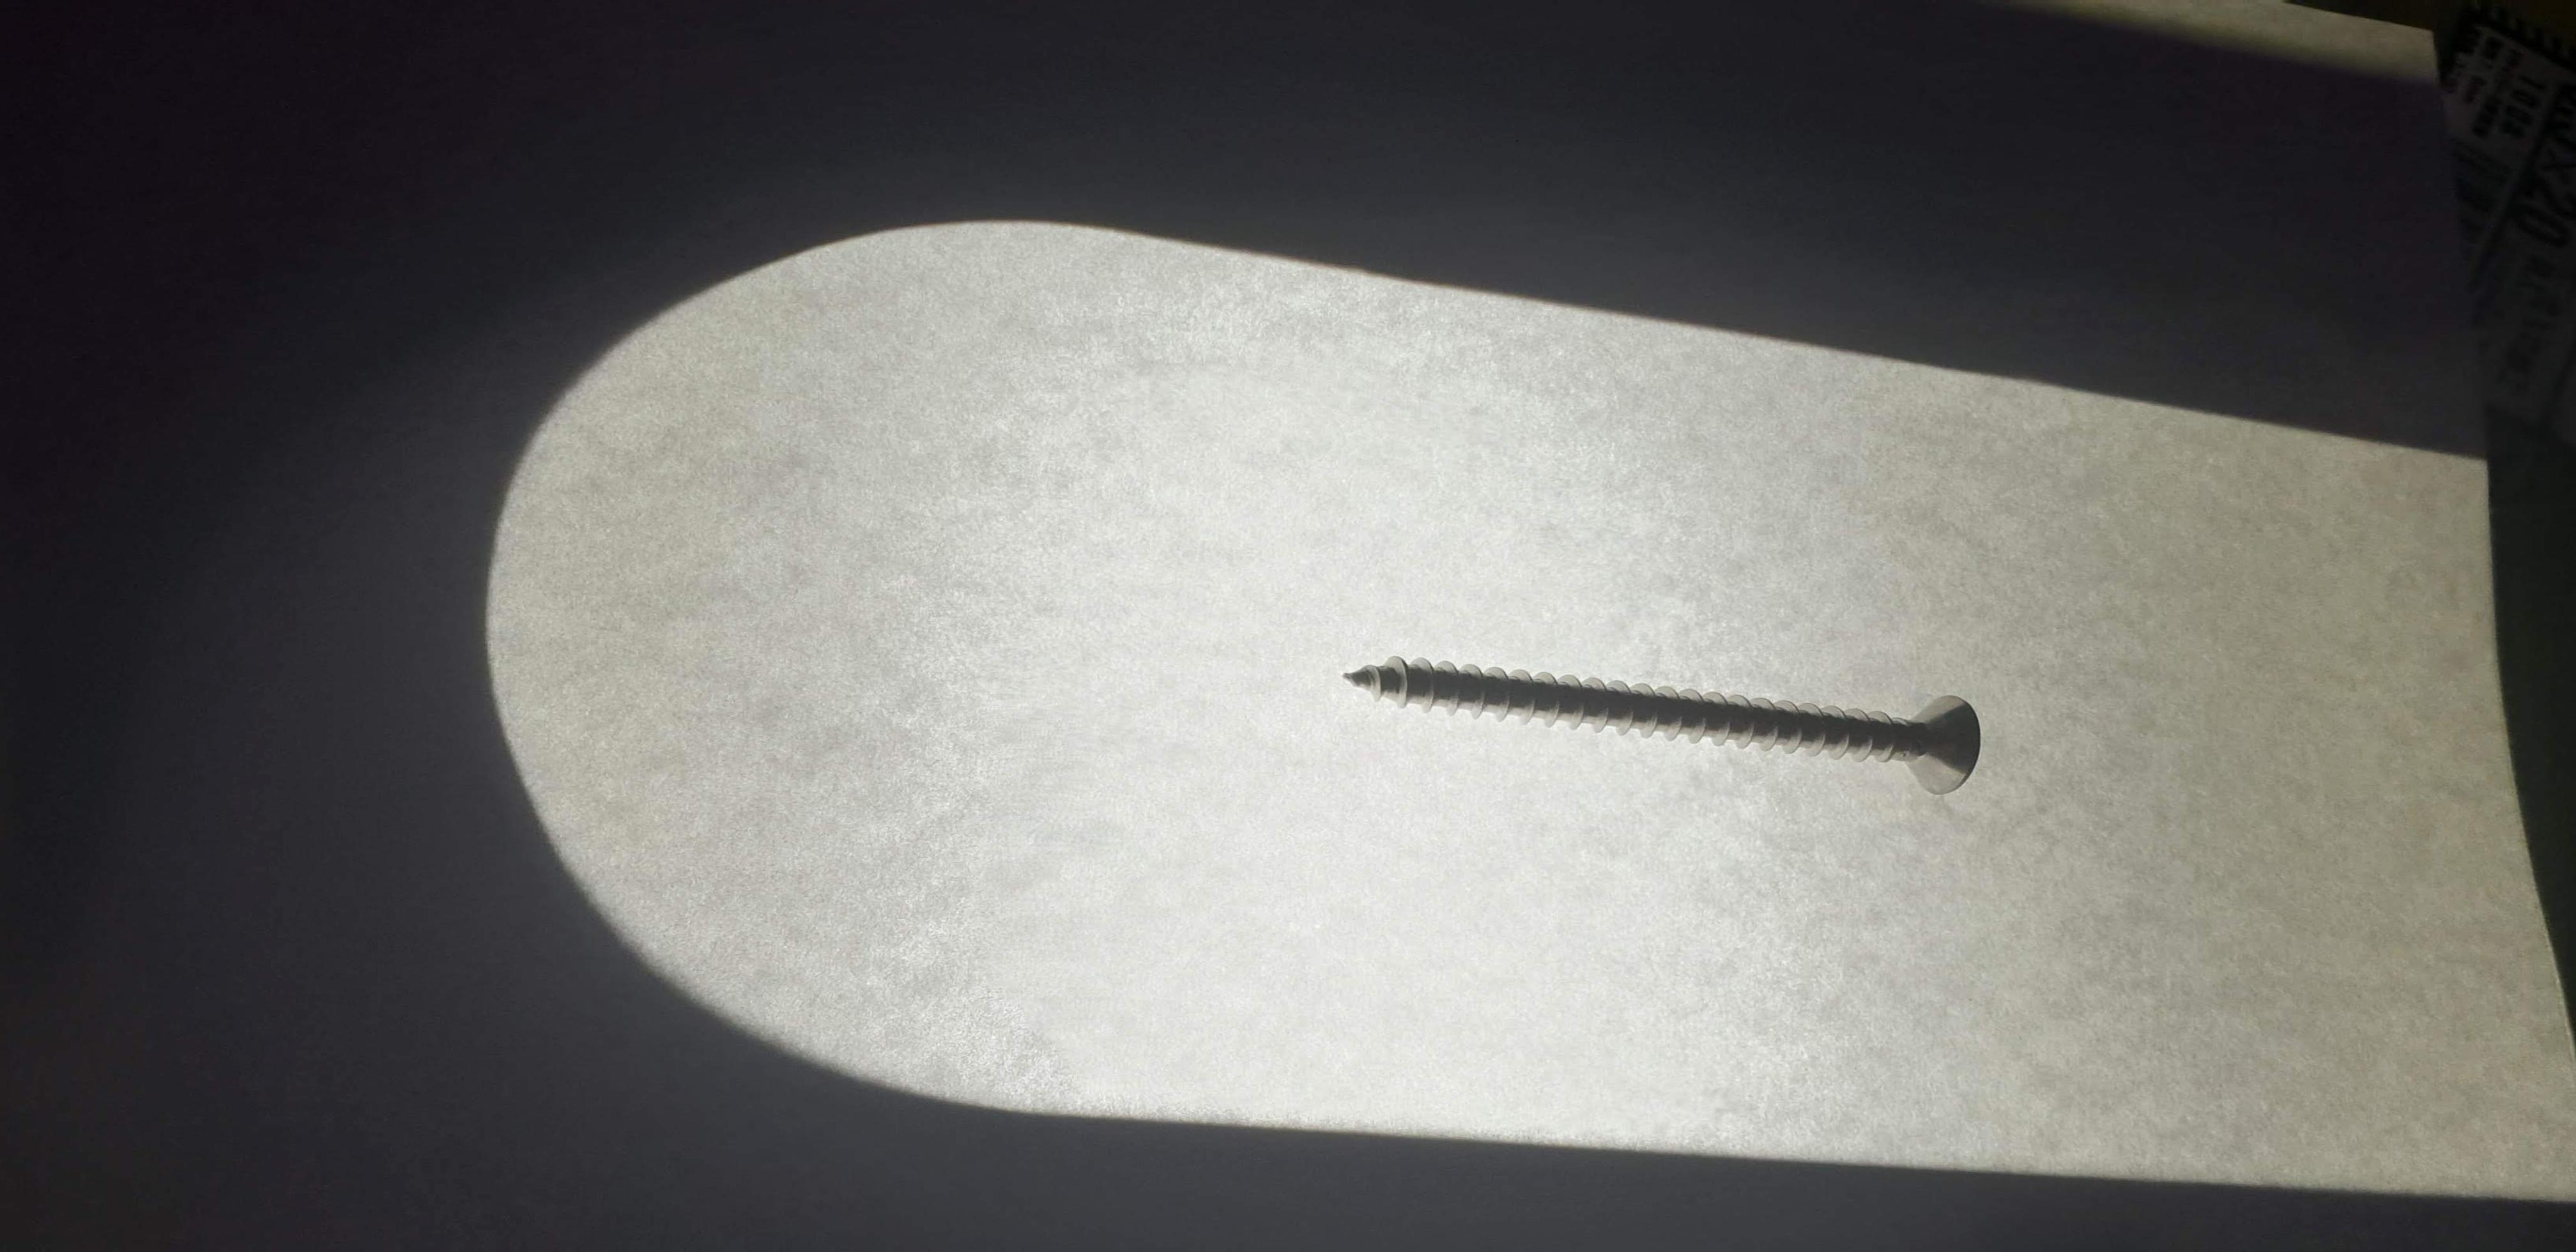S001: (1286, 587, 2054, 849)
